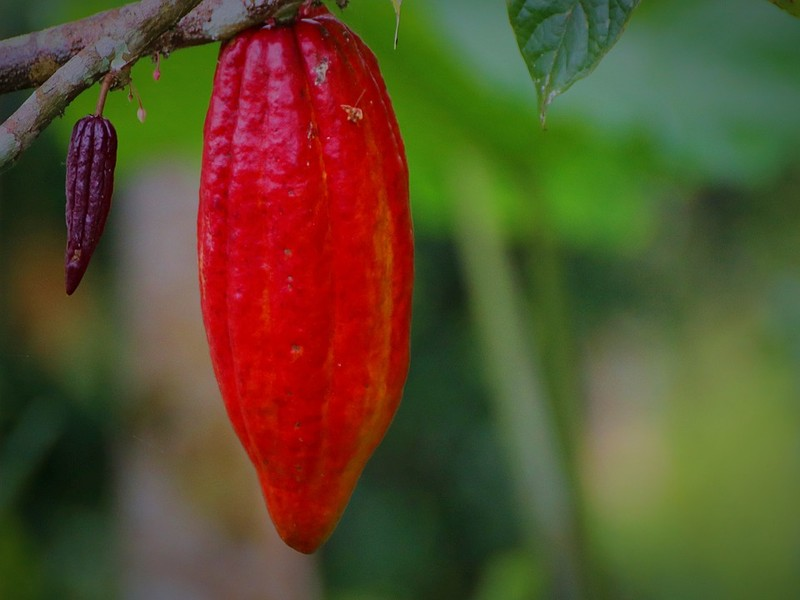Cacaopod: (197, 17, 415, 553)
